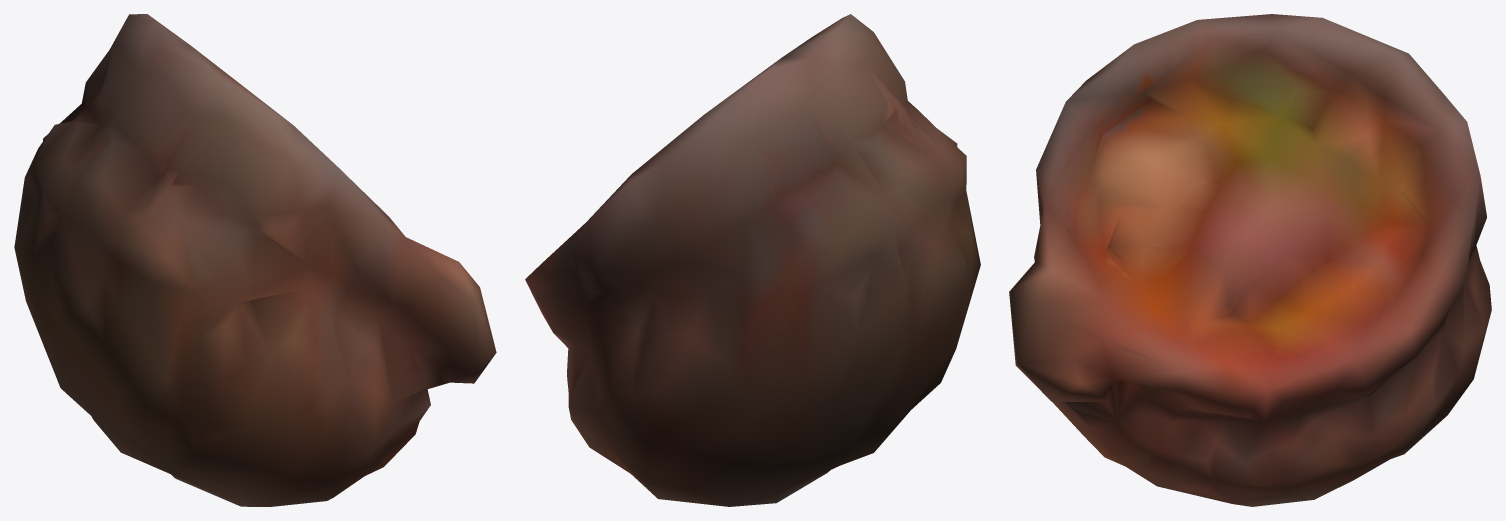
The model's file is dish_bug_hotpot.glb.
3 renders of one model, left to right at view 1: azimuth 30°, elevation 25°; view 2: azimuth 150°, elevation 25°; view 3: azimuth 270°, elevation 25°, orthographic. The views are drawn at different scales.
Parts seen in each view (by area): view 1: model; view 2: model; view 3: model.
Boxes of the visible parts, x1,y1,x2,y2 form: model: (14, 14, 496, 506); model: (525, 14, 980, 506); model: (1009, 14, 1491, 506).
Size of the model in its own units: 0.3393 by 0.3976 by 0.3999.
Materials: 1 (1 with a texture image).
